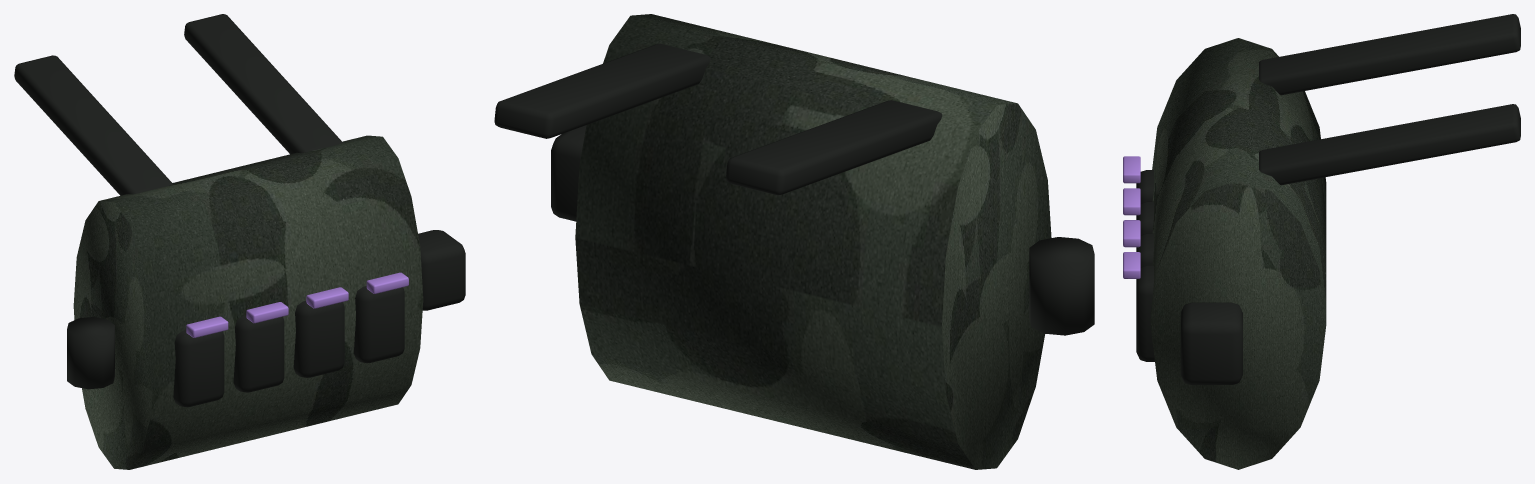
File: gear_rig_assault.glb
3 renders of one model, left to right at view 1: azimuth 30°, elevation 25°; view 2: azimuth 150°, elevation 25°; view 3: azimuth 270°, elevation 25°, orthographic. The views are drawn at different scales.
Visible parts, largest first — view 1: Gear; view 2: Gear; view 3: Gear.
Boxes of the visible parts, <box> form: Gear: <box>14,14,465,469</box>; Gear: <box>494,14,1094,469</box>; Gear: <box>1123,14,1520,469</box>.
Size of the model in its own units: 0.5435 by 0.4109 by 0.4483.
4 materials, 2 textured.
